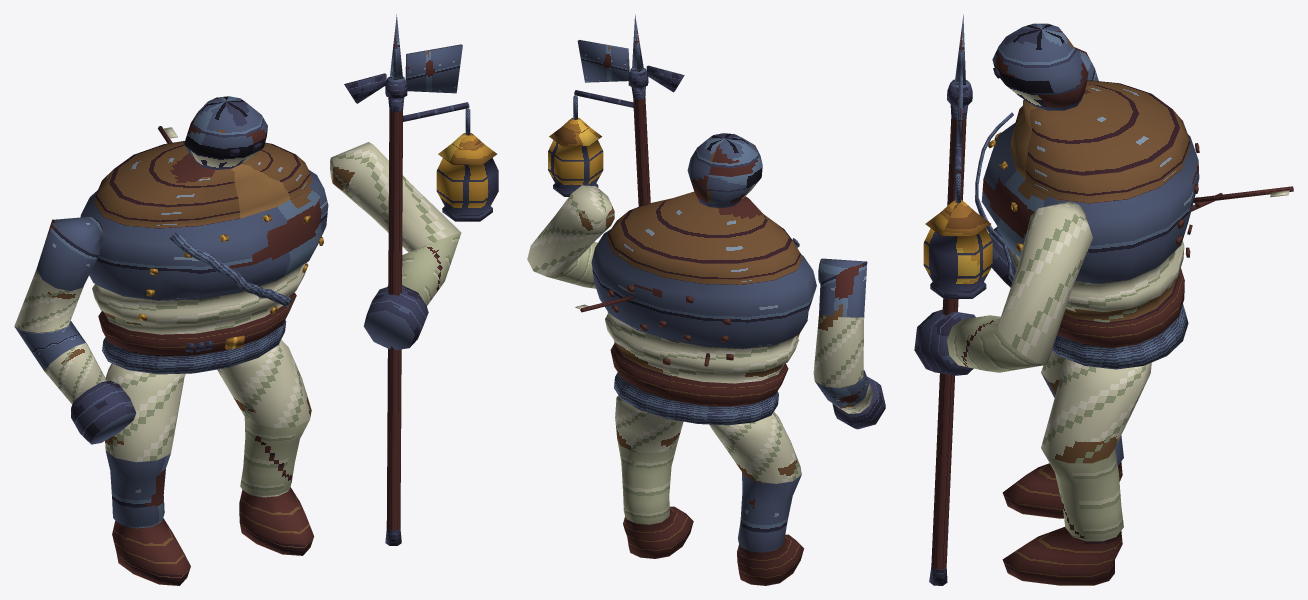
File: gruftwaechter_F2.glb
The picture shows the model from 3 angles, left to right: view 1: azimuth 30°, elevation 25°; view 2: azimuth 150°, elevation 25°; view 3: azimuth 270°, elevation 25°; orthographic projection. The views are drawn at different scales.
Parts seen in each view (by area): view 1: torso, halberd, arm_l, leg_r, leg_l, arm_r, head, gear; view 2: torso, leg_l, halberd, leg_r, arm_l, arm_r, head, gear; view 3: torso, leg_r, arm_r, halberd, head, leg_l, gear, arm_l.
Boxes of the visible parts, <box> form: torso: <box>80,141,328,374</box>; halberd: <box>344,14,498,545</box>; arm_l: <box>14,217,136,444</box>; leg_r: <box>217,339,314,555</box>; leg_l: <box>105,363,190,585</box>; arm_r: <box>330,142,461,350</box>; head: <box>184,96,267,169</box>; gear: <box>138,126,323,352</box>; torso: <box>591,191,816,425</box>; leg_l: <box>709,411,804,585</box>; halberd: <box>548,14,684,206</box>; leg_r: <box>615,395,693,558</box>; arm_l: <box>813,258,885,429</box>; arm_r: <box>527,185,614,288</box>; head: <box>687,133,762,208</box>; gear: <box>575,238,799,366</box>; torso: <box>981,80,1199,369</box>; leg_r: <box>1002,358,1151,585</box>; arm_r: <box>914,201,1092,375</box>; halberd: <box>923,14,992,585</box>; head: <box>992,23,1088,110</box>; leg_l: <box>1002,350,1123,518</box>; gear: <box>975,112,1293,282</box>; arm_l: <box>988,47,1098,287</box>.
Size of the model in its own units: 2.04 by 2.59 by 1.48.
Materials: 1 (1 with a texture image).
